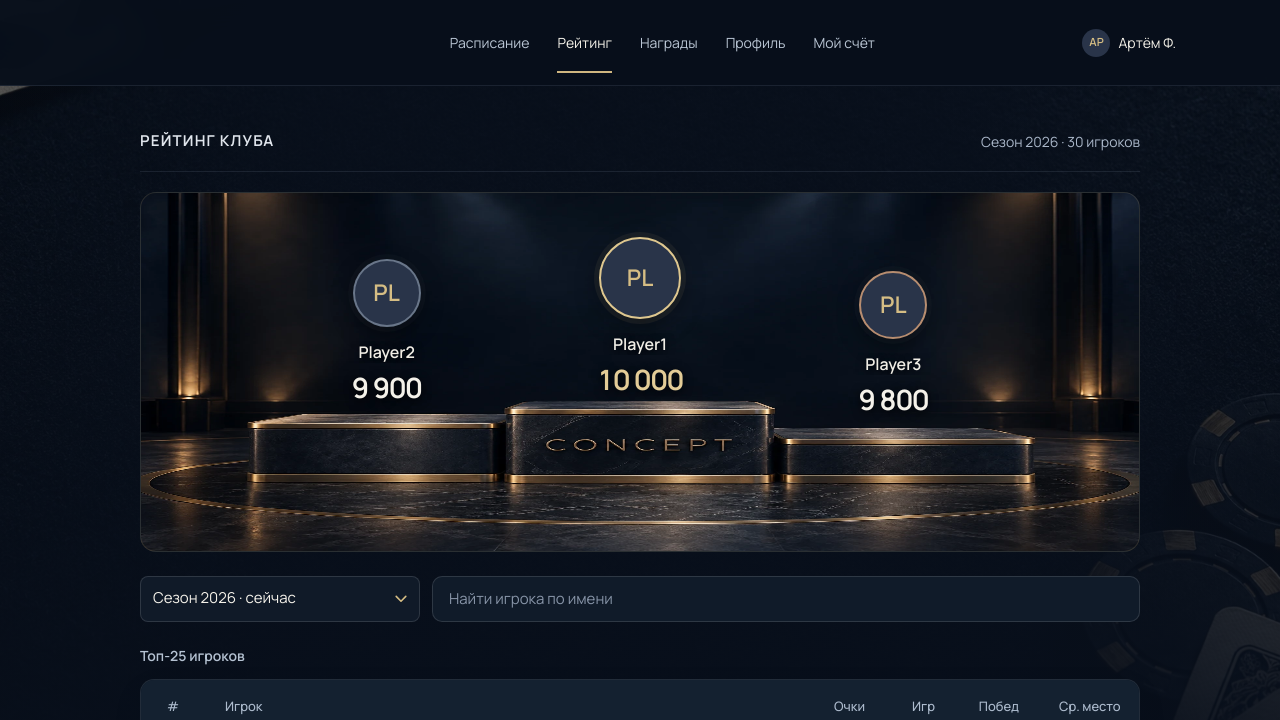
Scenario: leaderboard › limits standings to top 25 and preserves the actual rank of the signed-in player
This screenshot has width=1280, height=720.
Type "Player25" into the search field named "Поиск игрока". click: coordinates (786, 599)
box: [432,576,1140,622]
(page scrolled)
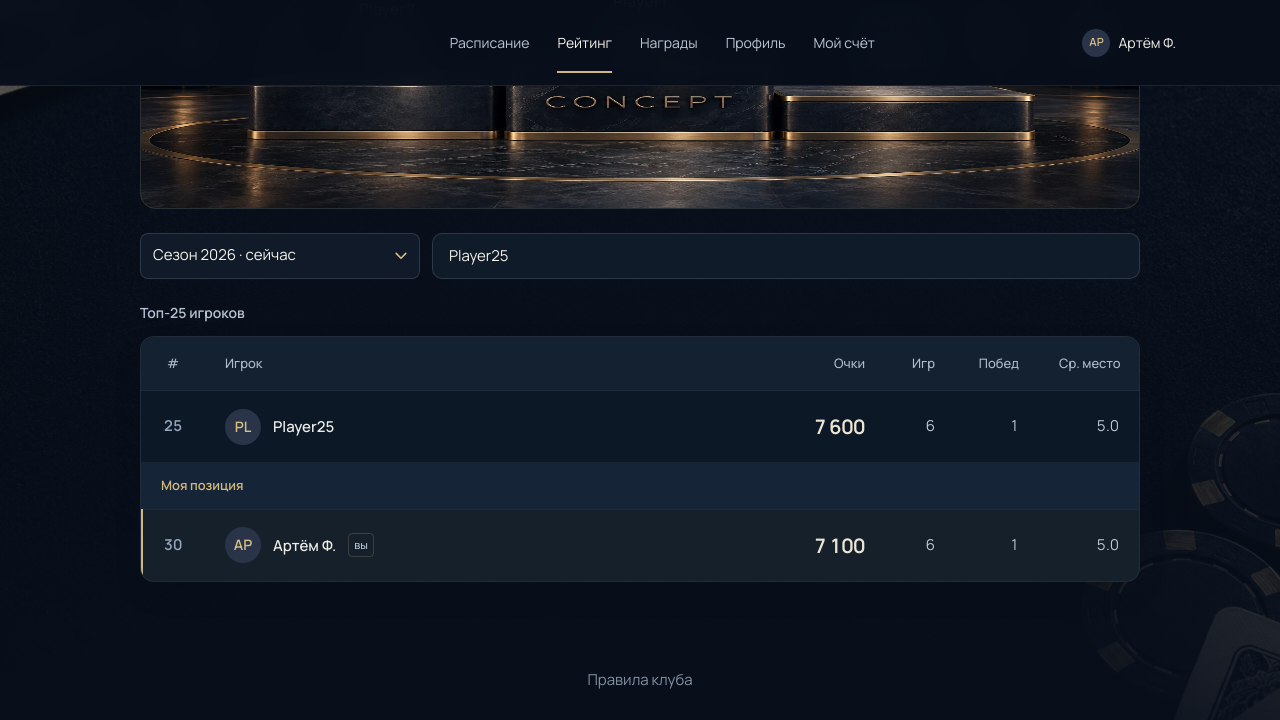
Expected: the text "Моя позиция" is shown, [141,463,1139,509]
Expected: the table shows "Player25", [225,409,720,445]
